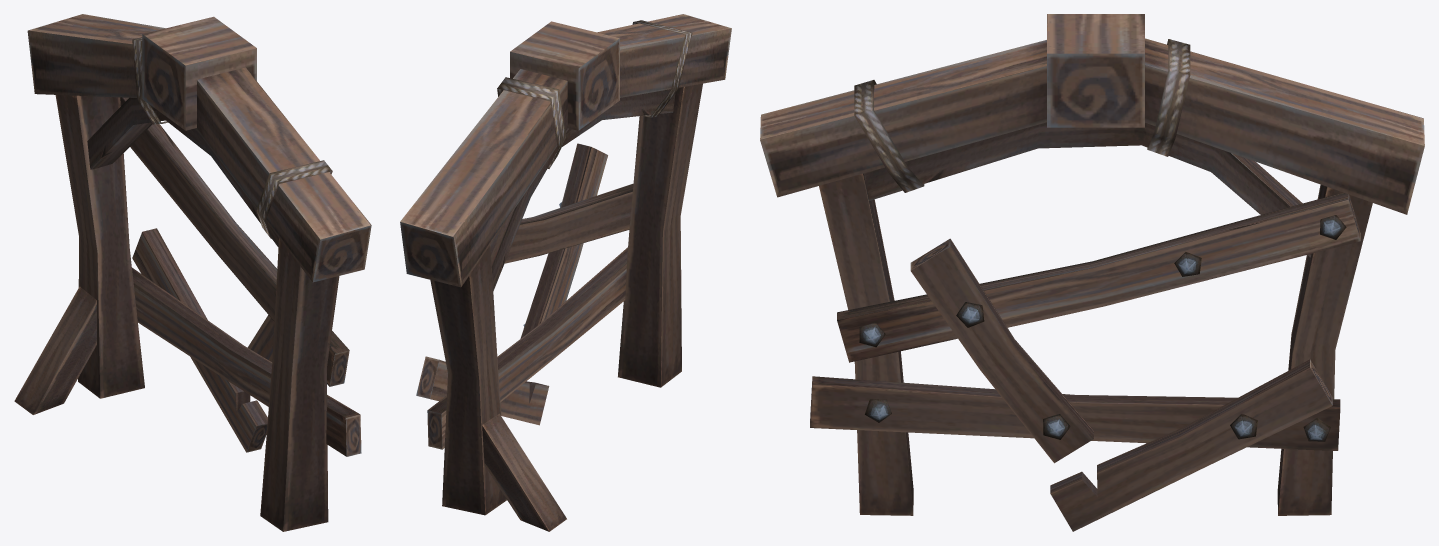
The model's file is mine_baricade_support01.fbx.
3 views of the same model, side by side, from view 1: azimuth 30°, elevation 25°; view 2: azimuth 150°, elevation 25°; view 3: azimuth 270°, elevation 25° (orthographic). The views are drawn at different scales.
Visible parts, largest first — view 1: mine_baricade_support01-0; view 2: mine_baricade_support01-0; view 3: mine_baricade_support01-0.
Part boxes in pixels (x1,y1,x2,y2): mine_baricade_support01-0: [14, 14, 371, 531]; mine_baricade_support01-0: [400, 14, 731, 531]; mine_baricade_support01-0: [760, 14, 1424, 531].
Size of the model in its own units: 2.35 by 6.38 by 8.18.
